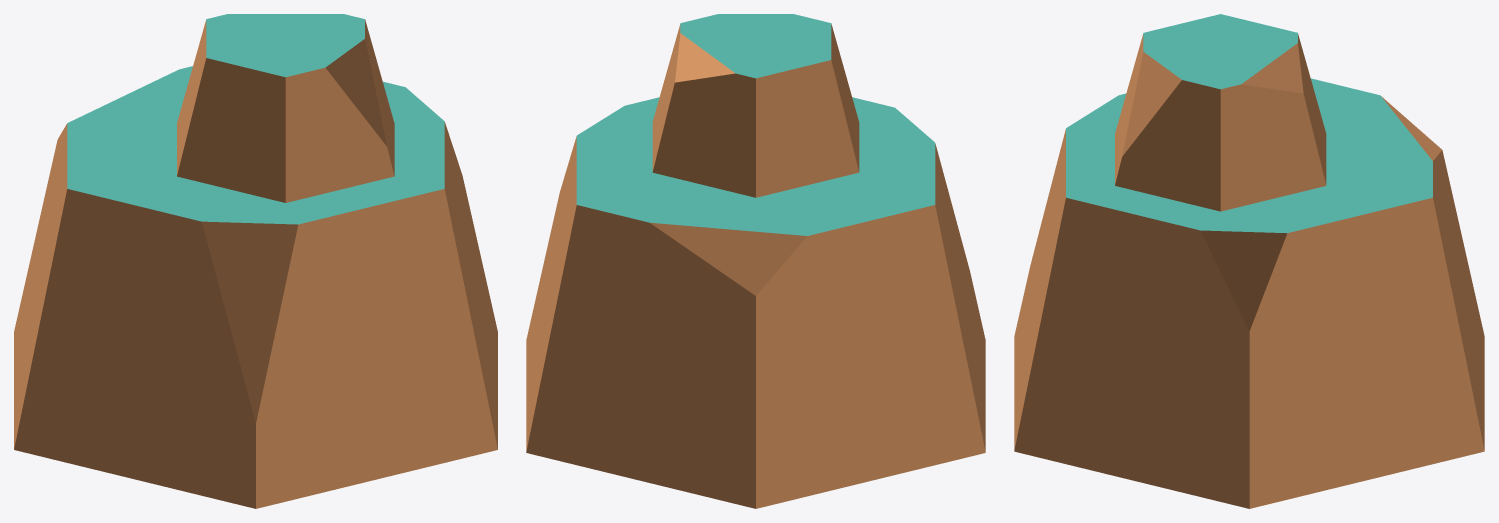
Rendered from rock_small5.obj.
3 views of the same model, side by side, from view 1: azimuth 30°, elevation 25°; view 2: azimuth 150°, elevation 25°; view 3: azimuth 270°, elevation 25° (orthographic). The views are drawn at different scales.
Visible parts, largest first — view 1: rock_small5; view 2: rock_small5; view 3: rock_small5.
Part boxes in pixels (left/top/right/bottom): rock_small5: left=14, top=14, right=497, bottom=508; rock_small5: left=526, top=14, right=985, bottom=508; rock_small5: left=1014, top=14, right=1484, bottom=508.
Size of the model in its own units: 3.61 by 2.56 by 3.12.
